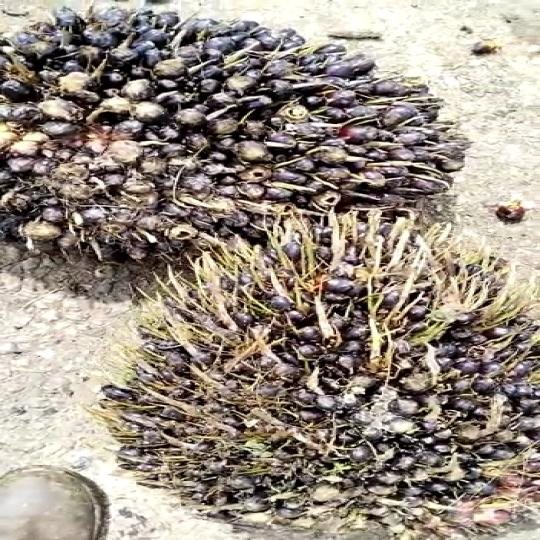mentah: (92, 194, 540, 536), (1, 11, 483, 274)
